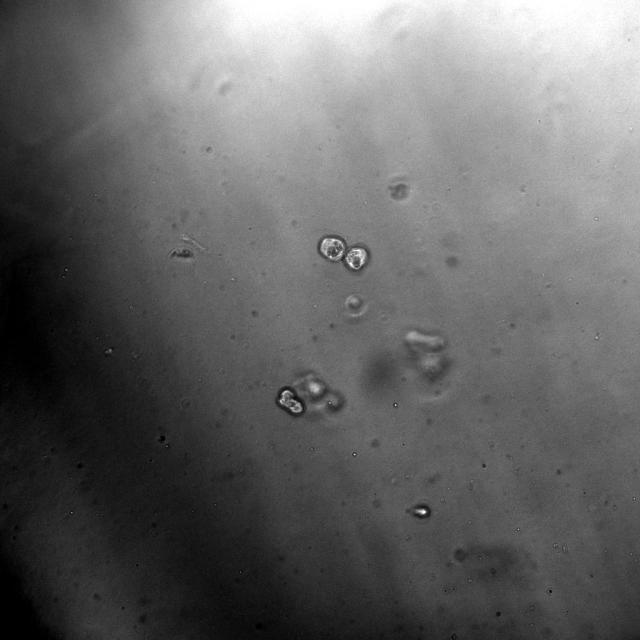organoid: (293, 371, 345, 423), (403, 328, 449, 381), (318, 234, 369, 272), (276, 387, 305, 416), (344, 294, 366, 317), (388, 182, 409, 200)
